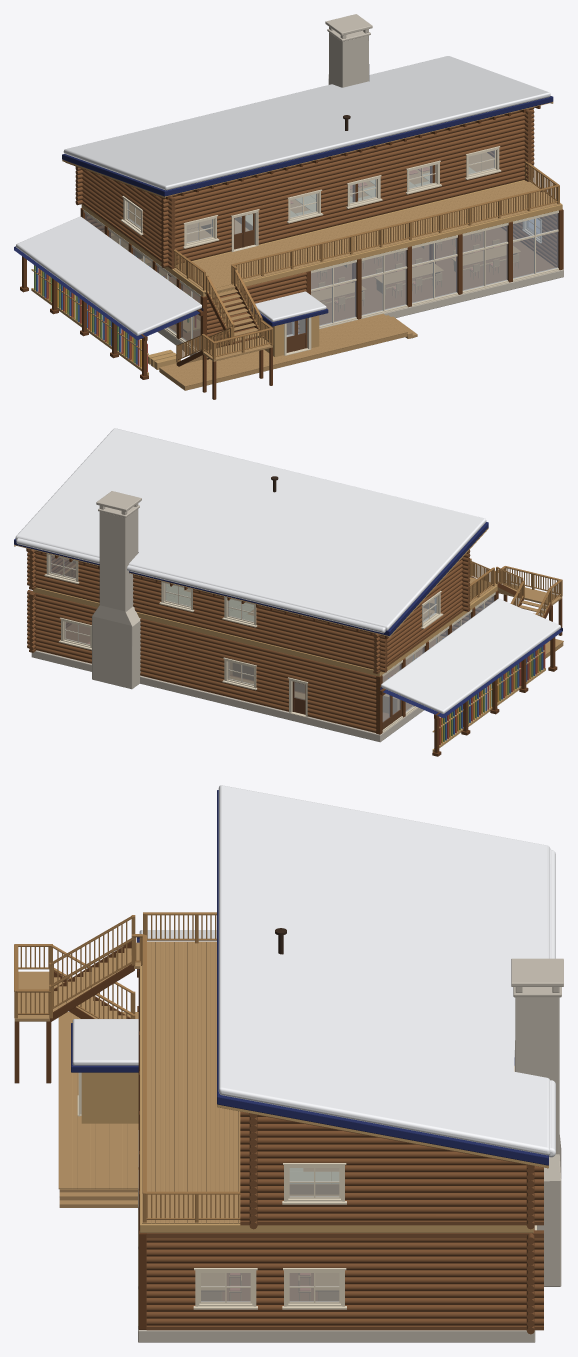
Rendered from lodge.glb.
3 renders of one model, top to bottom at view 1: azimuth 30°, elevation 25°; view 2: azimuth 150°, elevation 25°; view 3: azimuth 270°, elevation 25°, orthographic. The views are drawn at different scales.
Visible parts, largest first — view 1: logs, roof_snow, glass, lean_snow, terrace_boards, frames, floor1, floor2, deck_boards, rails, bal_terrace_s, roof (+24 smaller); view 2: roof_snow, logs, lean_snow, chimney, frames, glass, plinth, floor2, roof, lean_posts, rails, lean_roof (+13 smaller); view 3: roof_snow, logs, terrace_boards, chimney, deck_boards, rails, plinth, frames, roof, glass, floor2, stair_treads (+11 smaller).
Boxes of the visible parts, box(x1,y1,x2,y2) form: logs: box(75, 107, 556, 349); roof_snow: box(63, 56, 550, 190); glass: box(85, 150, 558, 349); lean_snow: box(16, 216, 201, 335); terrace_boards: box(173, 180, 559, 290); frames: box(83, 146, 559, 355); floor1: box(163, 227, 555, 348); floor2: box(81, 152, 562, 296); deck_boards: box(159, 313, 407, 386); rails: box(173, 161, 559, 362); bal_terrace_s: box(236, 187, 555, 279); roof: box(62, 96, 553, 196); roof_snow: box(15, 428, 486, 633); logs: box(27, 549, 492, 732); lean_snow: box(381, 598, 560, 713); chimney: box(92, 491, 141, 689); frames: box(44, 553, 495, 733); glass: box(51, 555, 493, 721); plinth: box(31, 650, 423, 742); floor2: box(33, 561, 497, 676); roof: box(14, 522, 488, 635); lean_posts: box(380, 637, 557, 756); rails: box(469, 558, 562, 617); lean_roof: box(380, 627, 562, 718); roof_snow: box(218, 785, 555, 1157); logs: box(138, 969, 543, 1334); terrace_boards: box(142, 941, 240, 1223); chimney: box(511, 958, 563, 1286); deck_boards: box(58, 1012, 138, 1189); rails: box(14, 912, 240, 1222); plinth: box(138, 1189, 535, 1342); frames: box(77, 1072, 536, 1326); roof: box(217, 790, 548, 1165); glass: box(201, 1168, 339, 1301); floor2: box(140, 962, 533, 1232); stair_treads: box(14, 942, 140, 1021).
Size of the model in its own units: 27 by 10.87 by 18.04.
